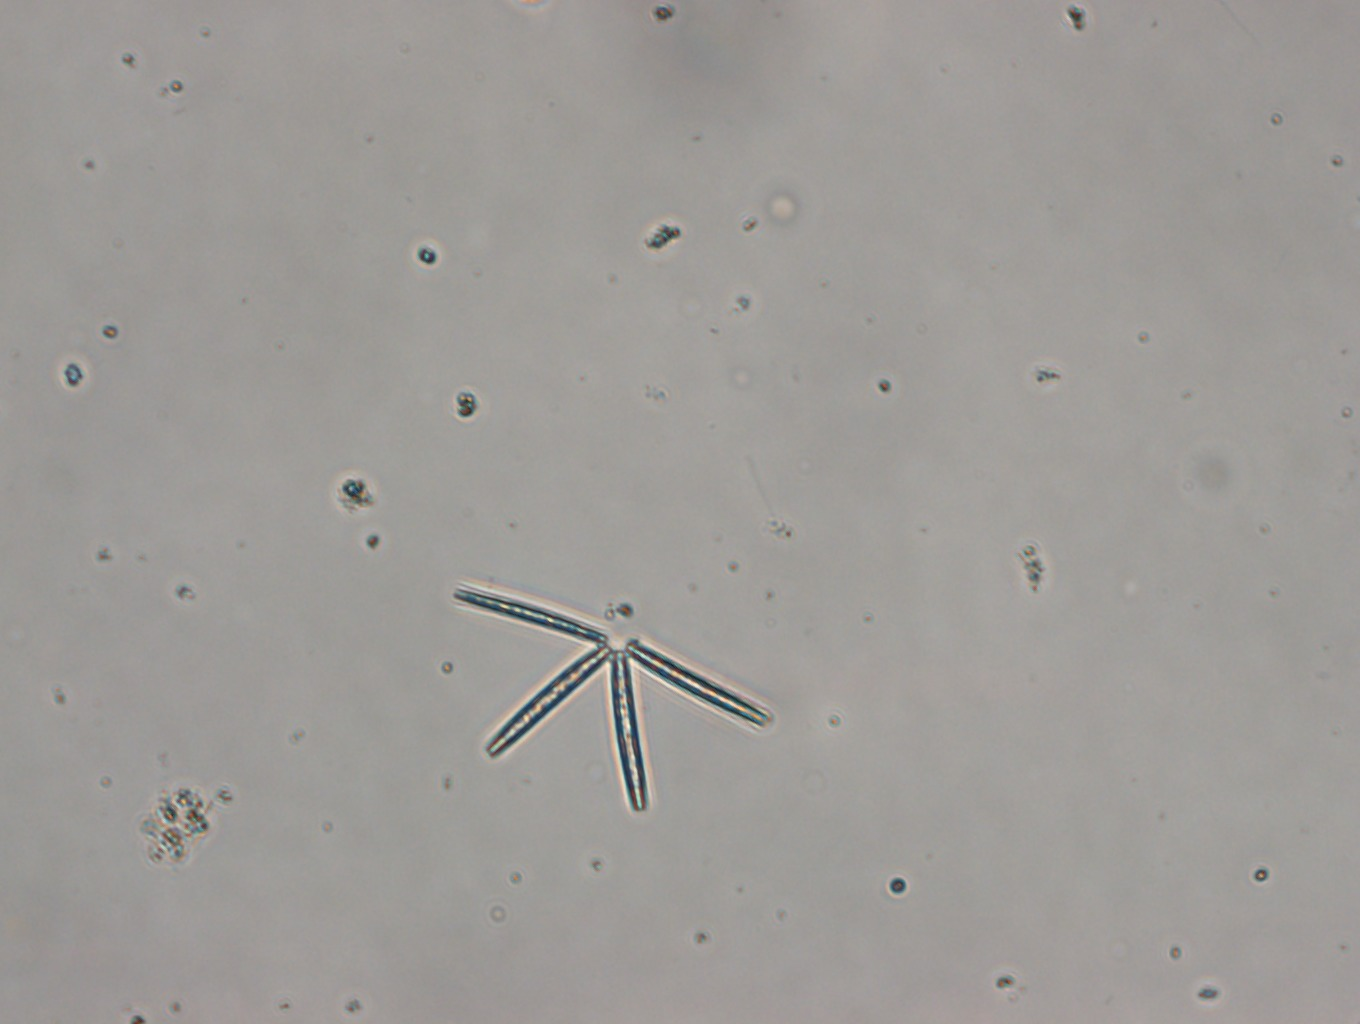thalassionema nitzschioides: (454, 584, 773, 813)
